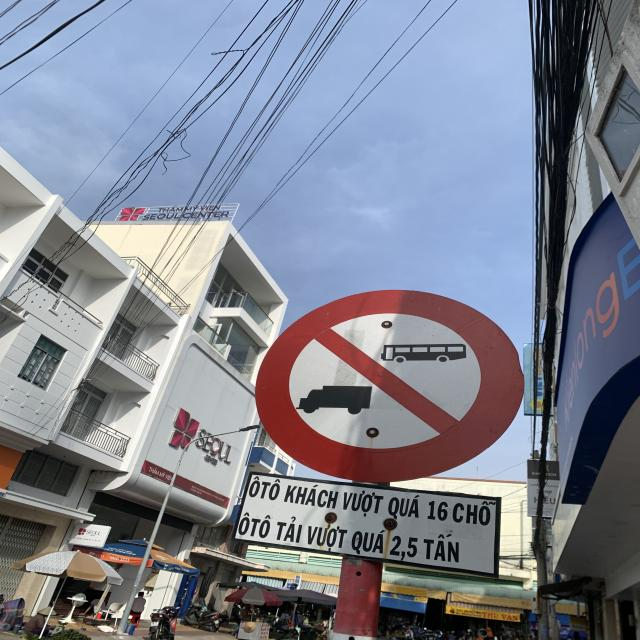Cam_XeTai_XeKhach: (255, 288, 524, 482)
